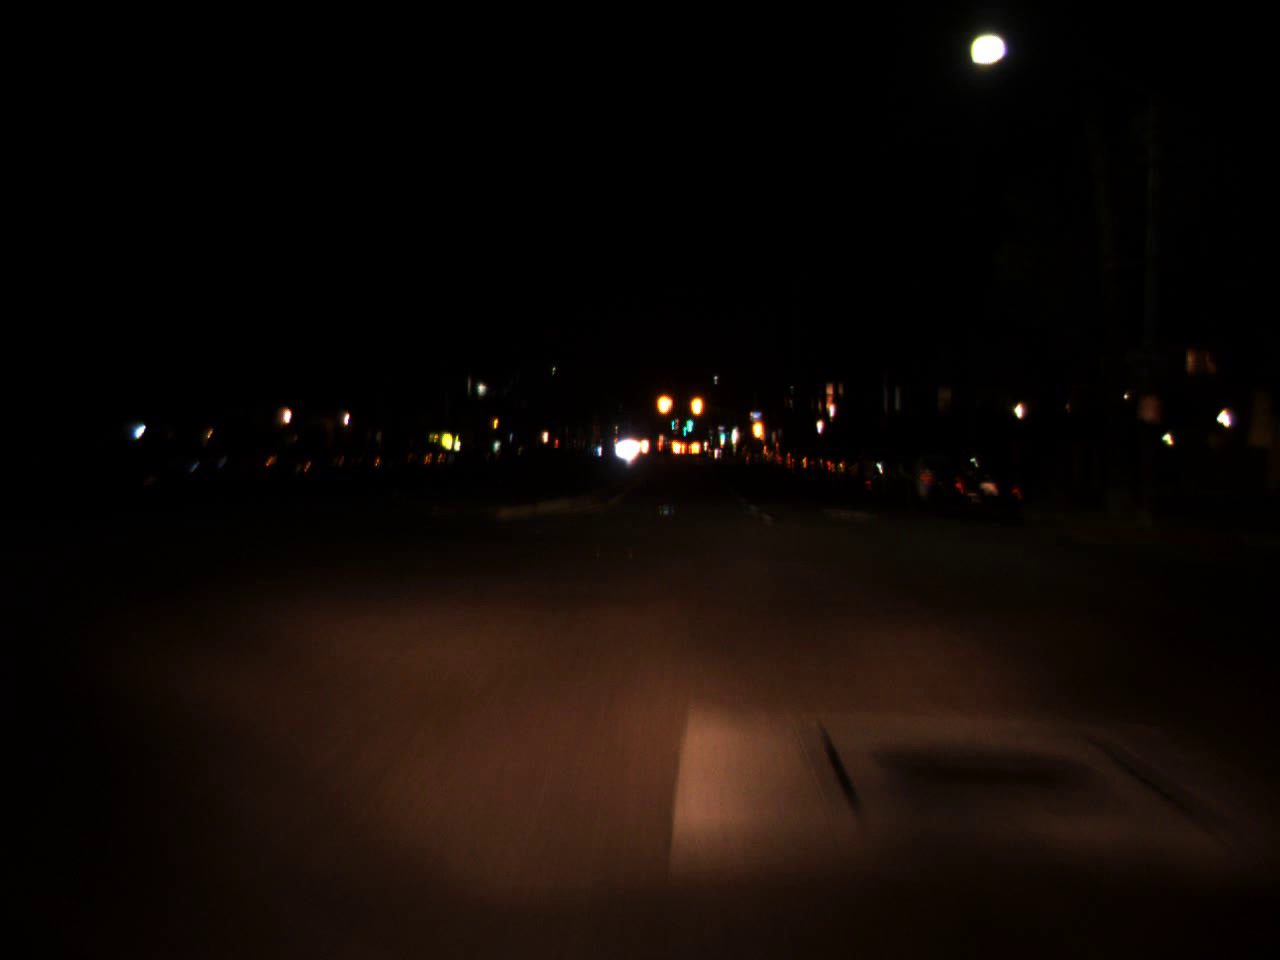go: (684, 404, 691, 437), (719, 428, 726, 440)
warning: (688, 383, 706, 428), (750, 408, 765, 450), (653, 386, 672, 418)
